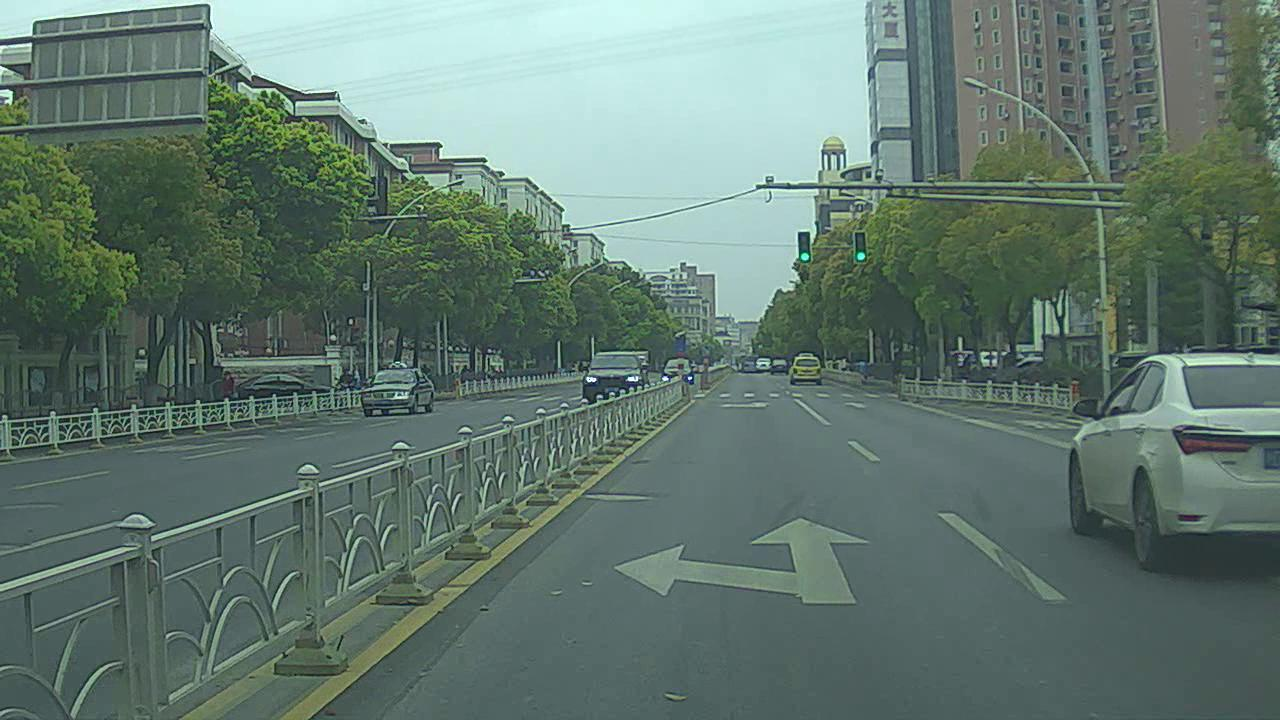traffic_light: (798, 226, 815, 264), (856, 227, 869, 266)
